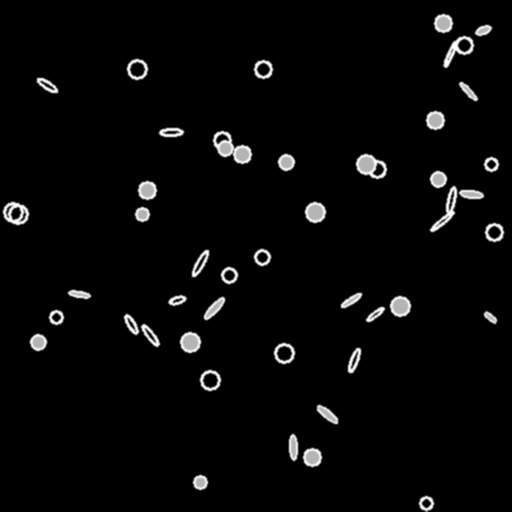pseudomonas: (429, 210, 455, 232), (190, 249, 210, 277), (203, 296, 225, 320), (315, 404, 339, 424), (140, 324, 160, 346), (35, 76, 59, 94), (442, 41, 458, 67), (458, 81, 478, 101), (123, 313, 139, 335), (340, 292, 362, 308), (445, 186, 457, 214), (347, 348, 361, 372), (366, 306, 384, 322), (460, 189, 482, 199), (168, 294, 186, 306), (483, 310, 497, 324), (159, 128, 183, 136), (69, 290, 89, 298), (475, 25, 491, 35), (290, 434, 296, 460)
synechocystis: (306, 203, 324, 221), (275, 344, 293, 362), (9, 205, 27, 223), (201, 371, 219, 389), (181, 333, 199, 351), (391, 297, 409, 315), (4, 203, 22, 221), (128, 60, 146, 78), (357, 155, 375, 173), (427, 112, 443, 128), (304, 449, 320, 465), (435, 15, 451, 31), (214, 132, 230, 148), (369, 161, 385, 177), (486, 224, 502, 240), (139, 182, 155, 198), (234, 146, 250, 162), (255, 61, 271, 77), (456, 37, 472, 53), (31, 335, 45, 349), (222, 268, 236, 282), (218, 141, 232, 155), (279, 155, 293, 169), (431, 172, 445, 186), (255, 250, 269, 264), (50, 311, 62, 323), (194, 476, 206, 488), (485, 158, 497, 170), (420, 497, 432, 509), (136, 208, 148, 220)
